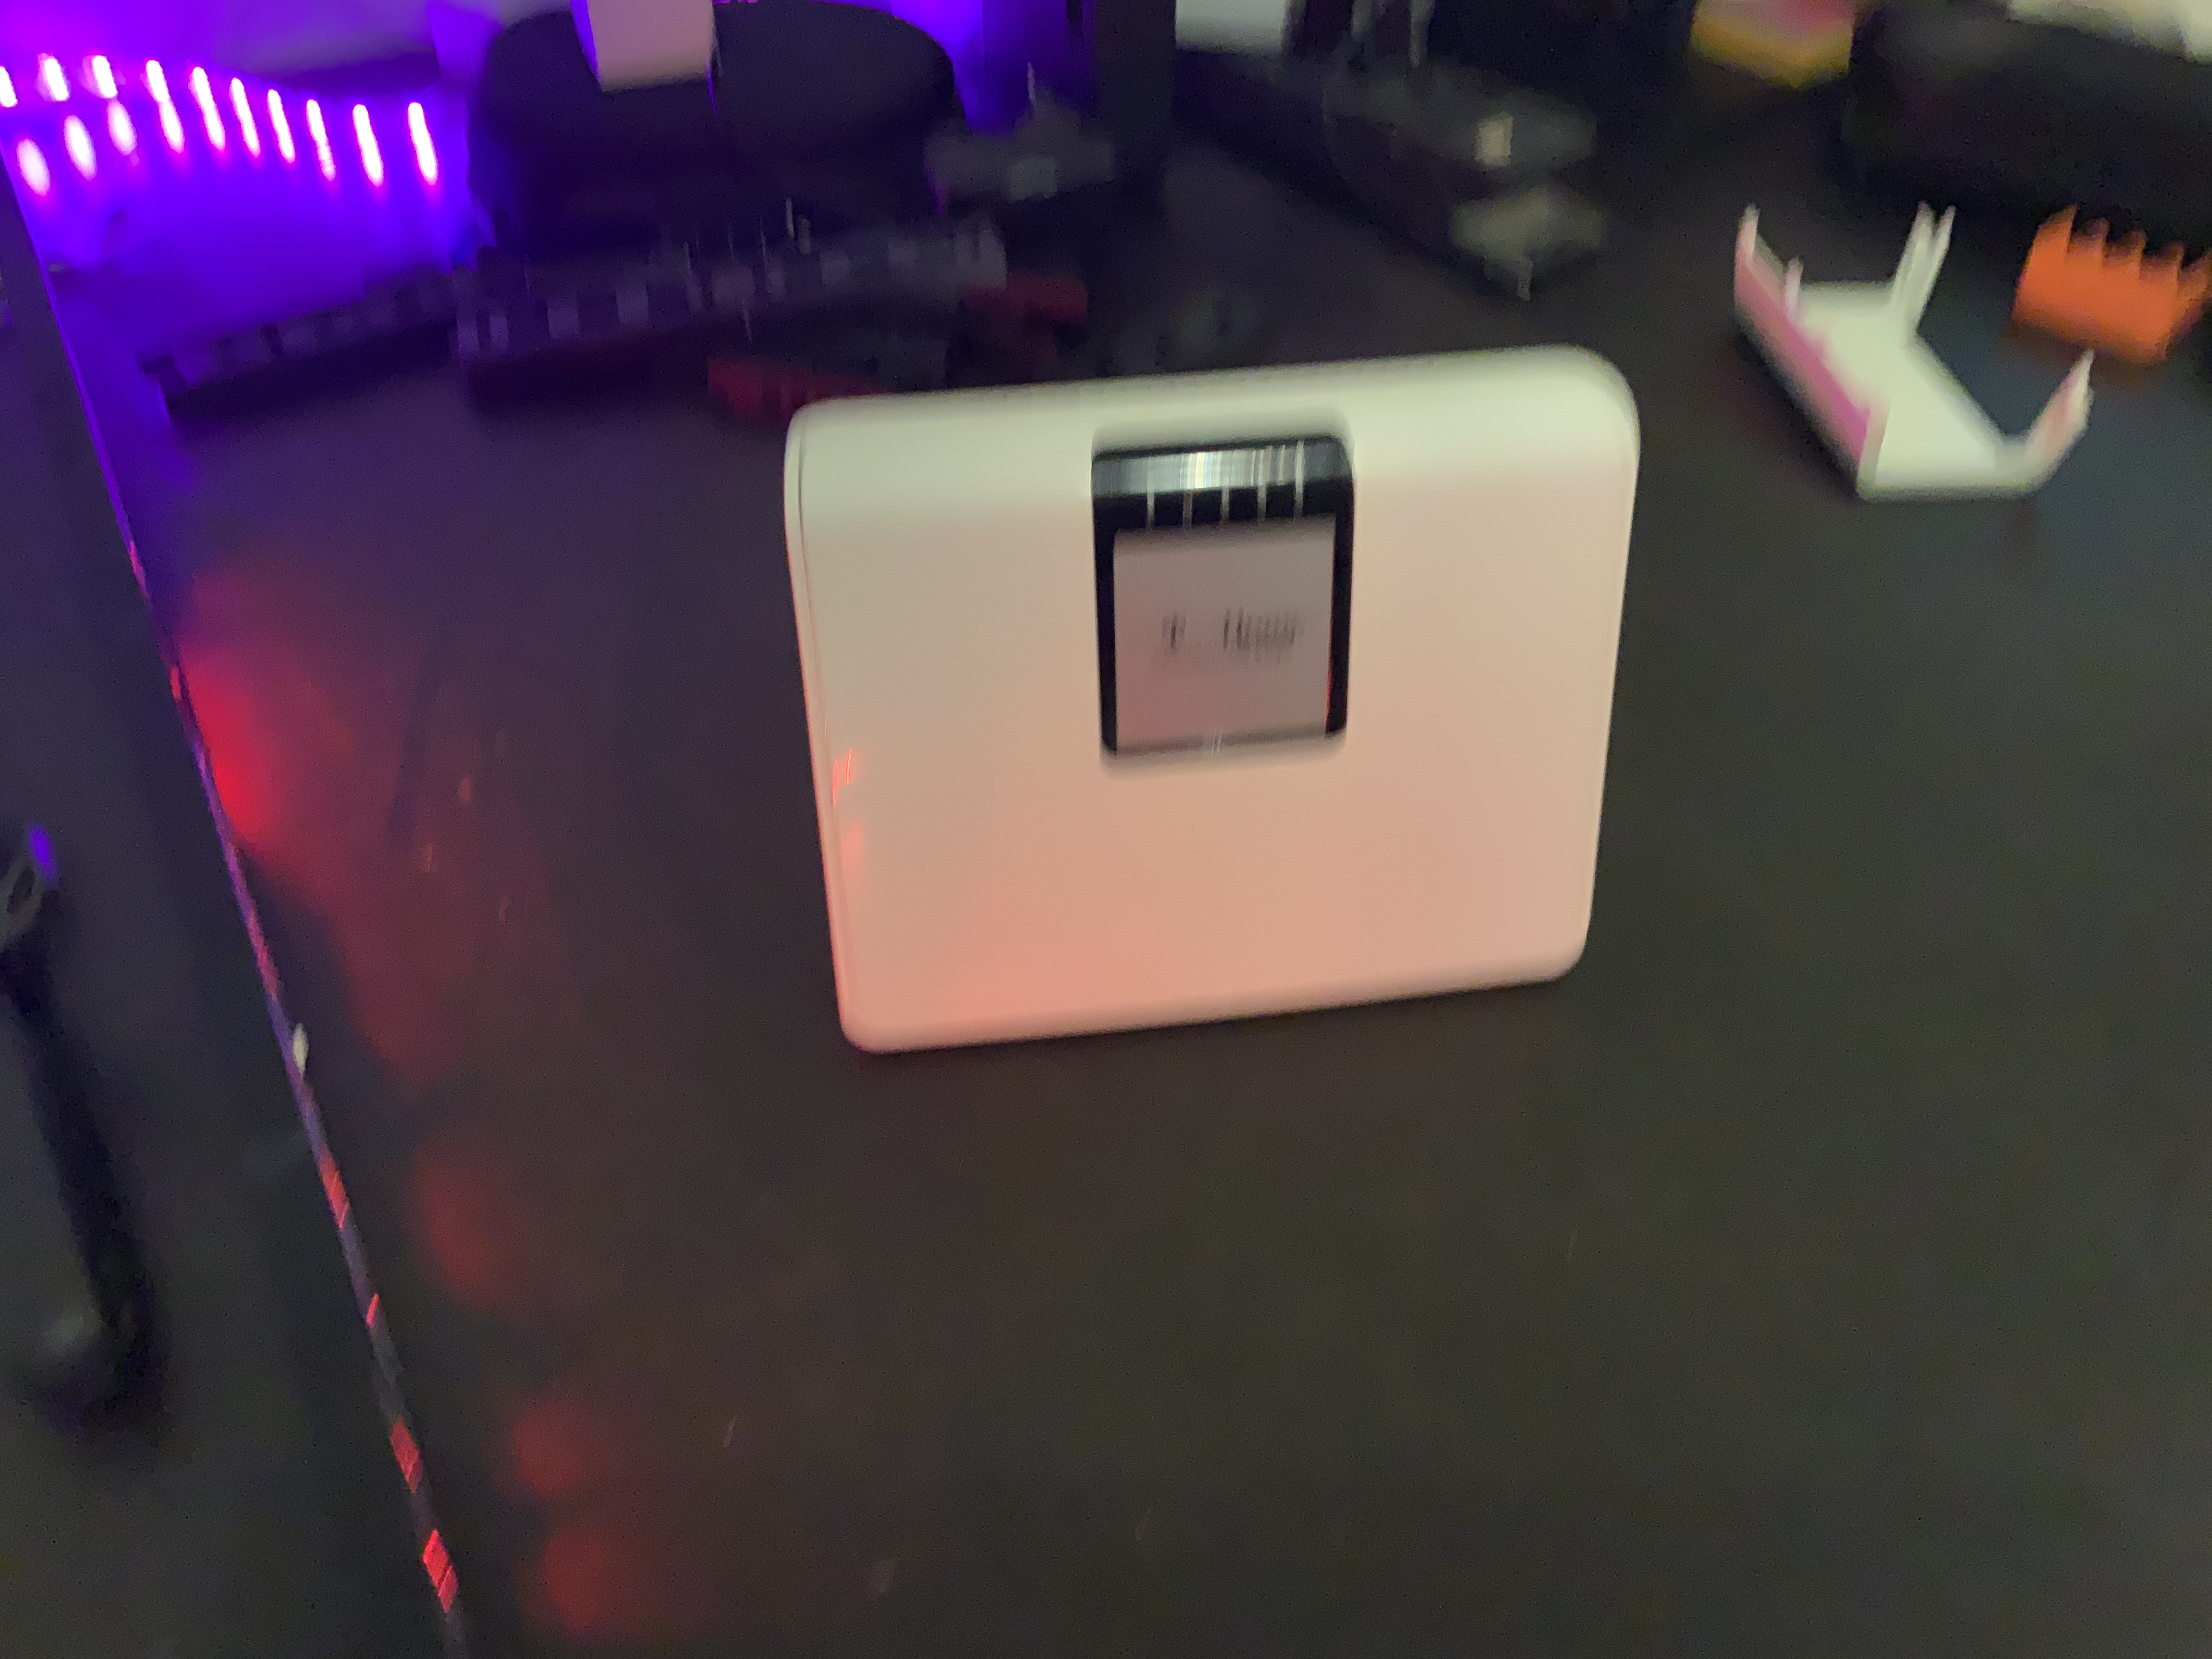Router2: (782, 335, 1651, 1061)
